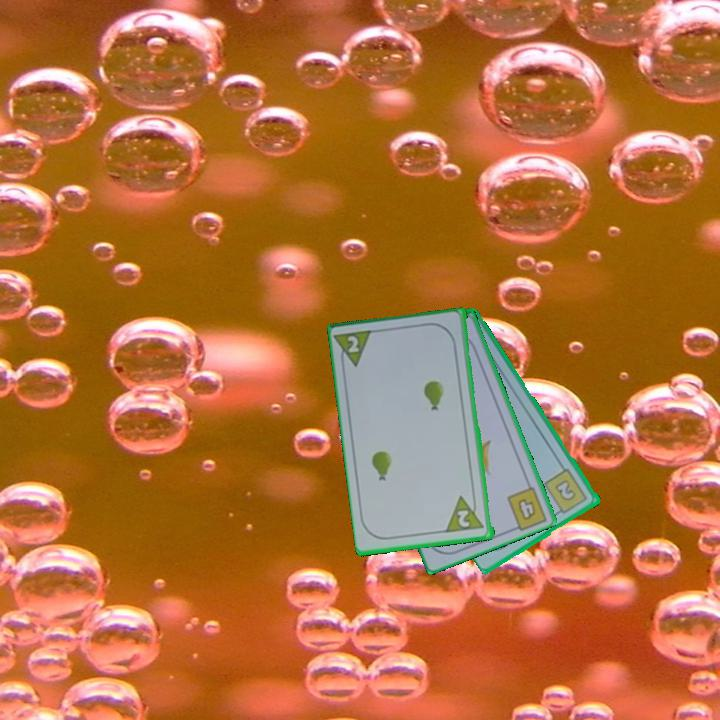2b: (541, 465, 591, 518)
2p: (333, 327, 377, 372), (454, 507, 474, 530)
4b: (514, 495, 539, 524)
